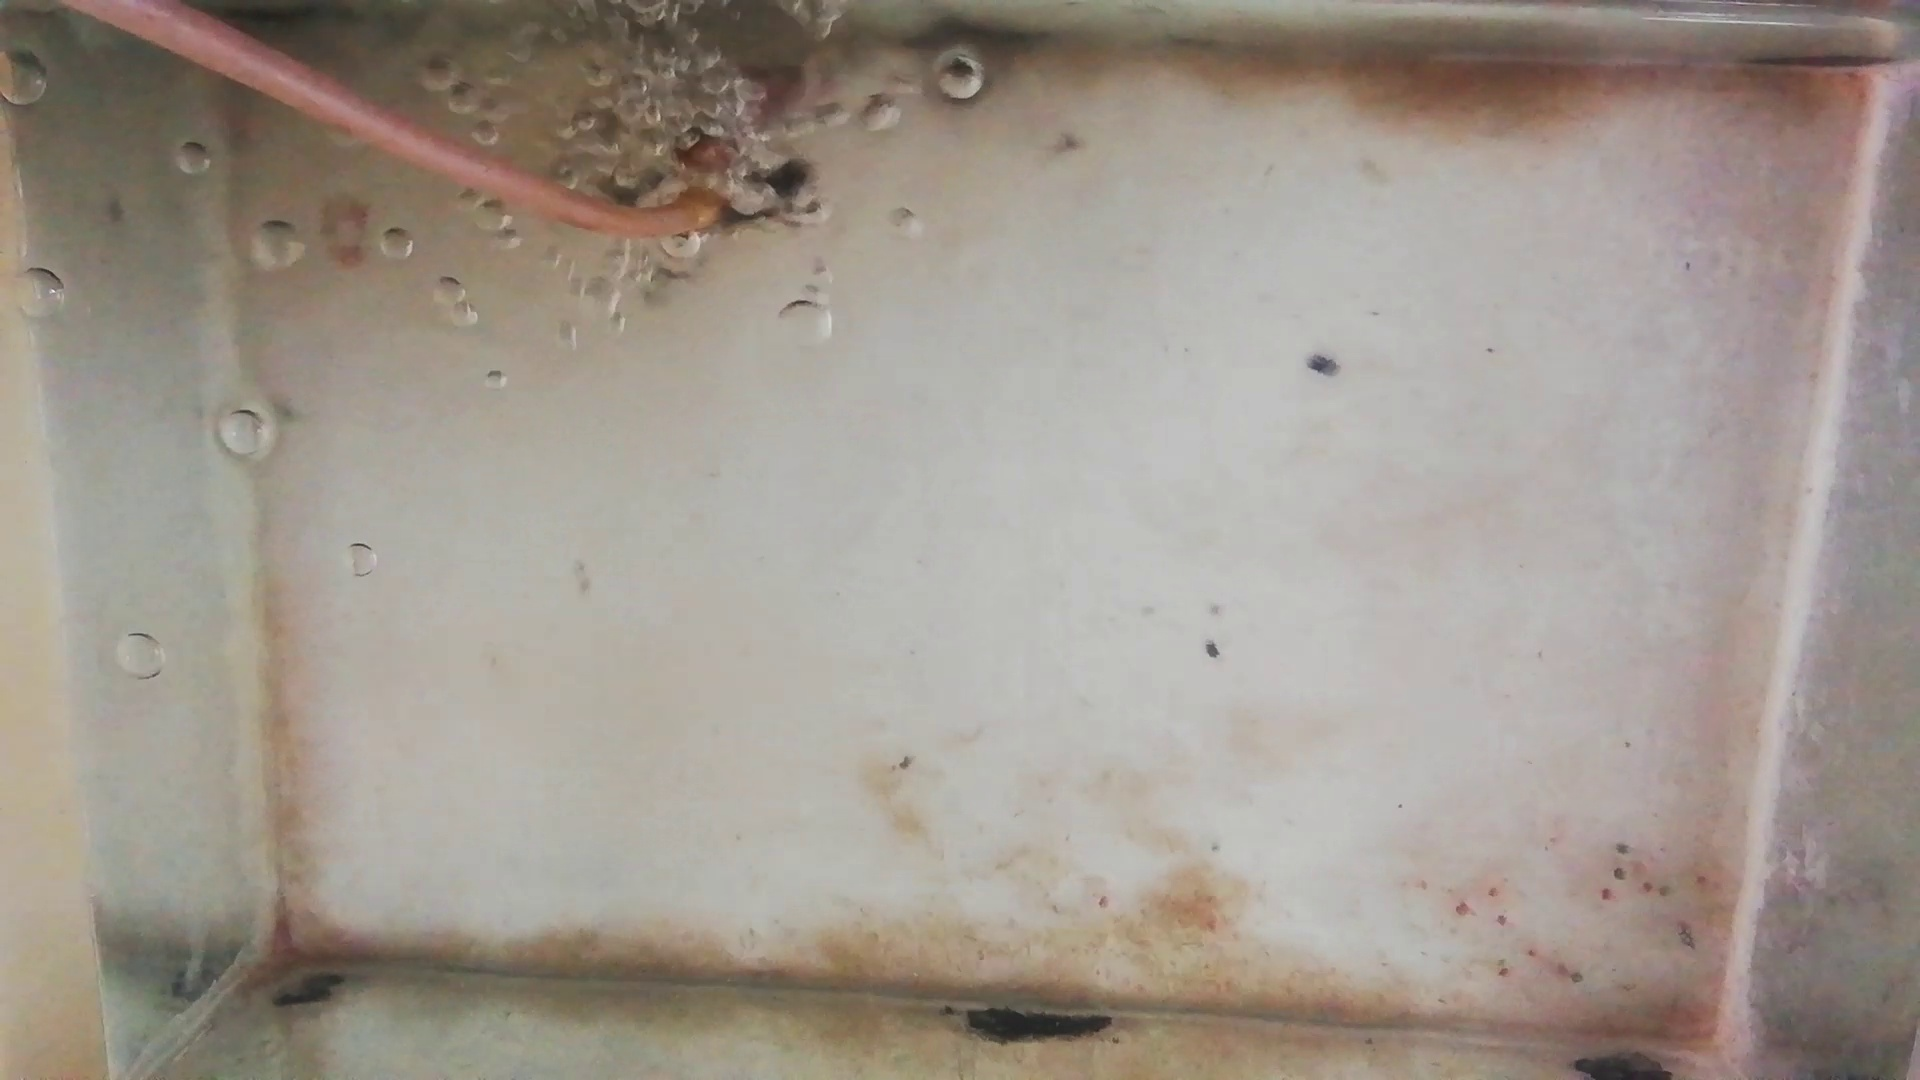fish: (625, 65, 808, 129), (702, 157, 818, 222)
